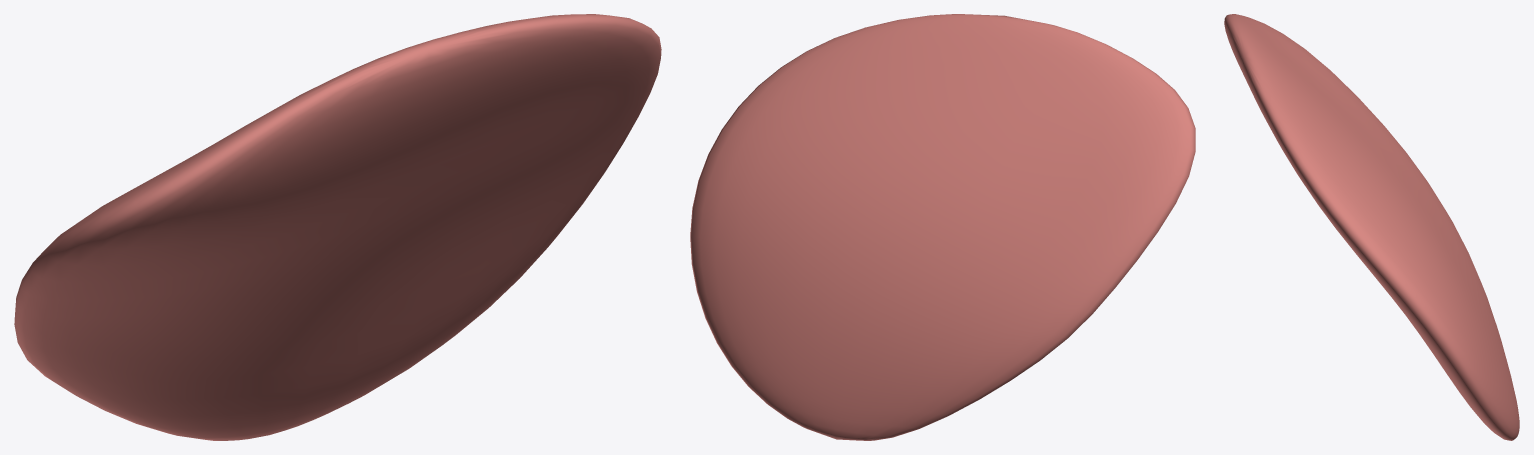
3 renders of one model, left to right at view 1: azimuth 30°, elevation 25°; view 2: azimuth 150°, elevation 25°; view 3: azimuth 270°, elevation 25°, orthographic. The views are drawn at different scales.
Visible parts, largest first — view 1: ZA_e980626ca2cbb8e6; view 2: ZA_e980626ca2cbb8e6; view 3: ZA_e980626ca2cbb8e6.
Boxes of the visible parts, x1=… form: ZA_e980626ca2cbb8e6: x1=14, y1=14, x2=661, y2=440; ZA_e980626ca2cbb8e6: x1=690, y1=14, x2=1195, y2=440; ZA_e980626ca2cbb8e6: x1=1224, y1=14, x2=1519, y2=440.
Bounding box in the file's own units: 0.036 × 0.0273 × 0.021.
